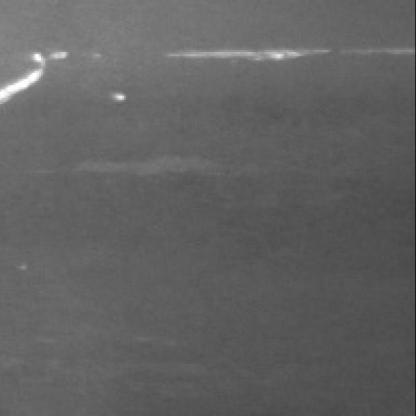scratches: (4, 52, 75, 110), (166, 46, 335, 70)
